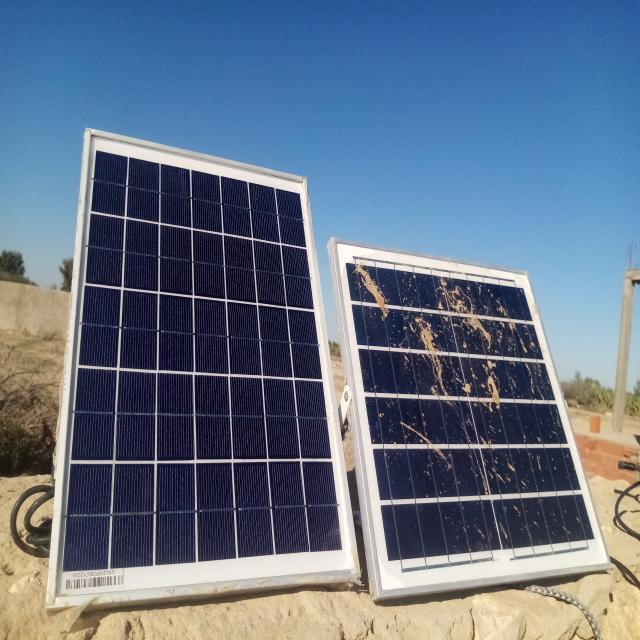faulty: (332, 241, 612, 597)
no faulty: (52, 130, 358, 593)
